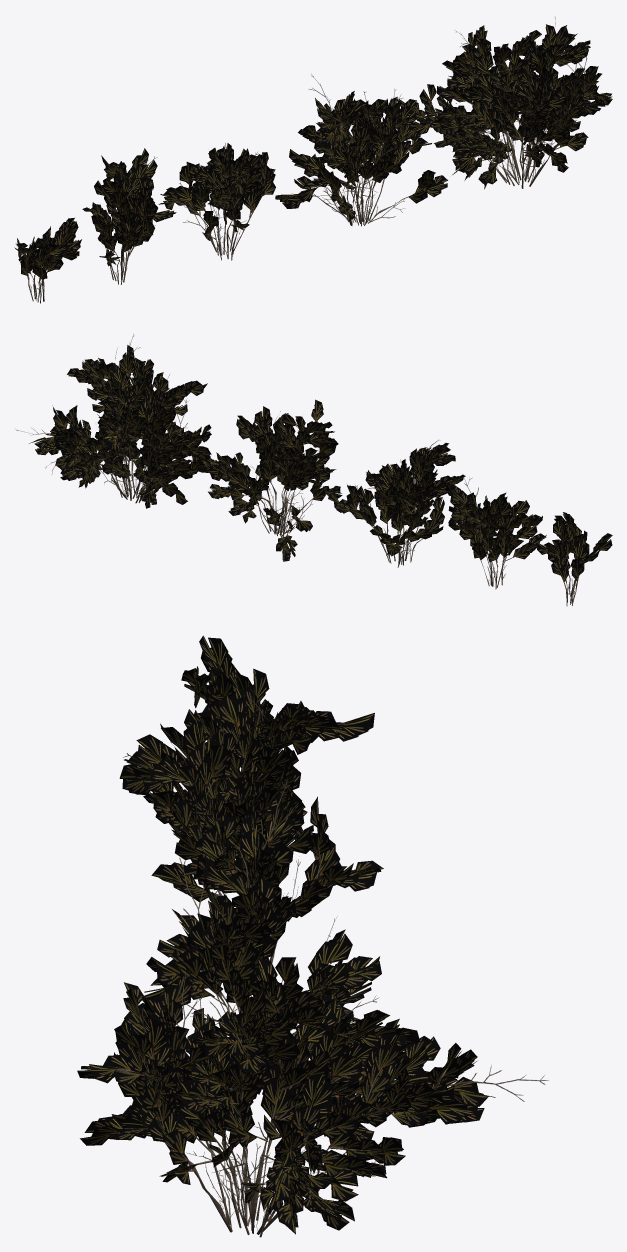
The model's file is wild_rooibos_bush.glb.
The picture shows the model from 3 angles, top to bottom: view 1: azimuth 30°, elevation 25°; view 2: azimuth 150°, elevation 25°; view 3: azimuth 270°, elevation 25°; orthographic projection. The views are drawn at different scales.
Visible parts, largest first — view 1: wild_rooibos_bush_a, wild_rooibos_bush_b, wild_rooibos_bush_c, wild_rooibos_bush_d, wild_rooibos_bush_e; view 2: wild_rooibos_bush_a, wild_rooibos_bush_b, wild_rooibos_bush_c, wild_rooibos_bush_d, wild_rooibos_bush_e; view 3: wild_rooibos_bush_a, wild_rooibos_bush_b, wild_rooibos_bush_c, wild_rooibos_bush_d, wild_rooibos_bush_e.
Part boxes in pixels (x1,y1,x2,y2): wild_rooibos_bush_a: (397, 17, 612, 189); wild_rooibos_bush_b: (275, 74, 447, 226); wild_rooibos_bush_c: (158, 143, 275, 260); wild_rooibos_bush_d: (82, 148, 176, 284); wild_rooibos_bush_e: (14, 218, 81, 303); wild_rooibos_bush_a: (16, 333, 218, 508); wild_rooibos_bush_b: (201, 399, 342, 561); wild_rooibos_bush_c: (328, 440, 465, 567); wild_rooibos_bush_d: (445, 474, 546, 589); wild_rooibos_bush_e: (537, 512, 612, 606); wild_rooibos_bush_a: (77, 958, 548, 1237); wild_rooibos_bush_b: (138, 779, 381, 1094); wild_rooibos_bush_c: (119, 718, 383, 963); wild_rooibos_bush_d: (160, 668, 374, 811); wild_rooibos_bush_e: (181, 635, 272, 755).
Bounding box in the file's own units: 2.28 × 0.5413 × 0.8433.
3 materials, 3 textured.
